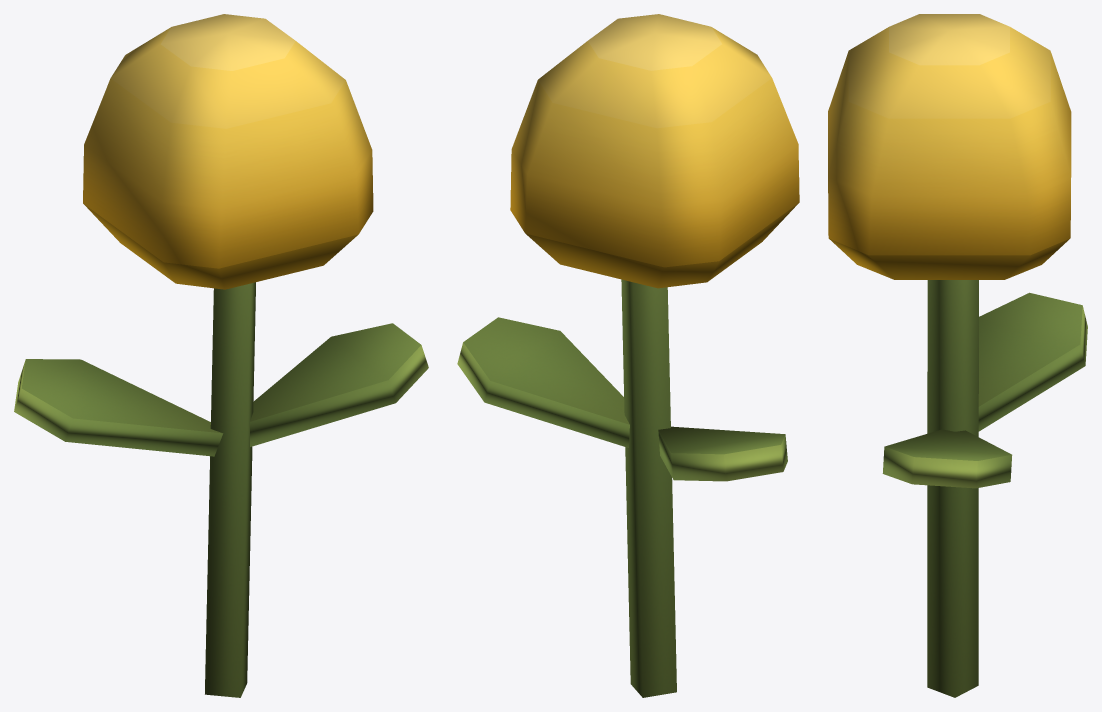
The model's file is flower_2_yellow.fbx.
3 views of the same model, side by side, from view 1: azimuth 30°, elevation 25°; view 2: azimuth 150°, elevation 25°; view 3: azimuth 270°, elevation 25° (orthographic).
Visible parts, largest first — view 1: flower_2_yellow; view 2: flower_2_yellow; view 3: flower_2_yellow.
Part boxes in pixels (x1,y1,x2,y2): flower_2_yellow: [14, 14, 428, 697]; flower_2_yellow: [457, 14, 799, 697]; flower_2_yellow: [828, 14, 1087, 697].
Size of the model in its own units: 56.55 by 99.48 by 35.68.
